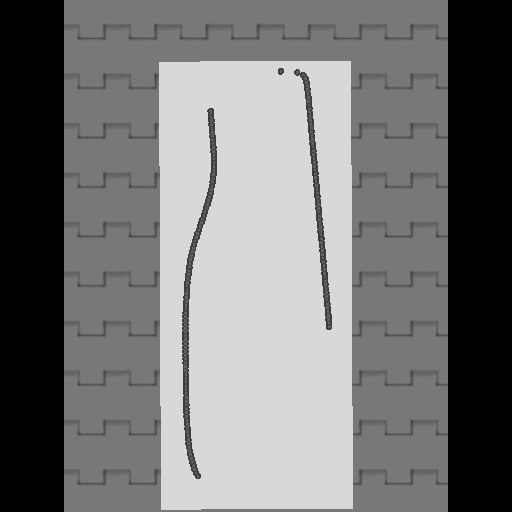Defect: (197, 323, 334, 486)
